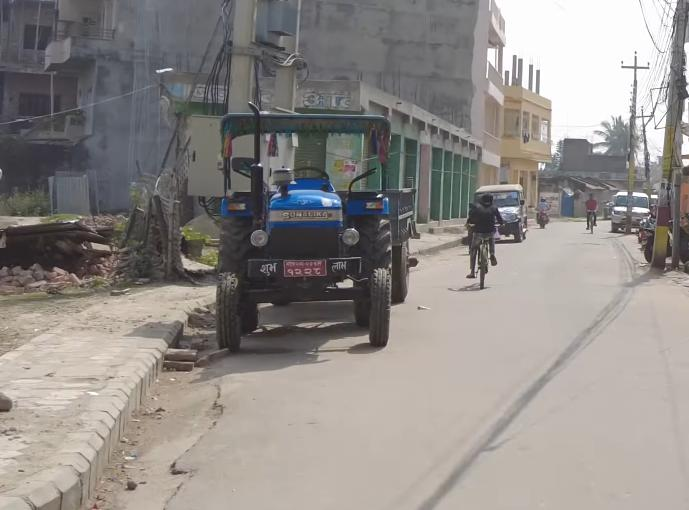SUV: (471, 179, 531, 242)
bike: (538, 205, 553, 229)
tractor: (203, 100, 425, 350)
